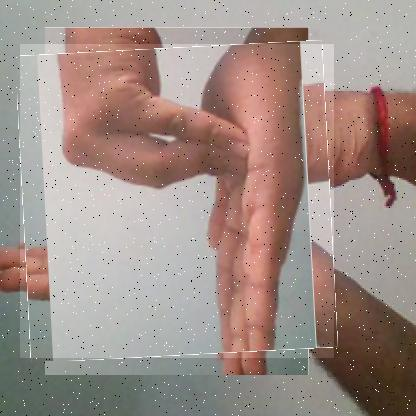Z: (19, 44, 334, 359)
